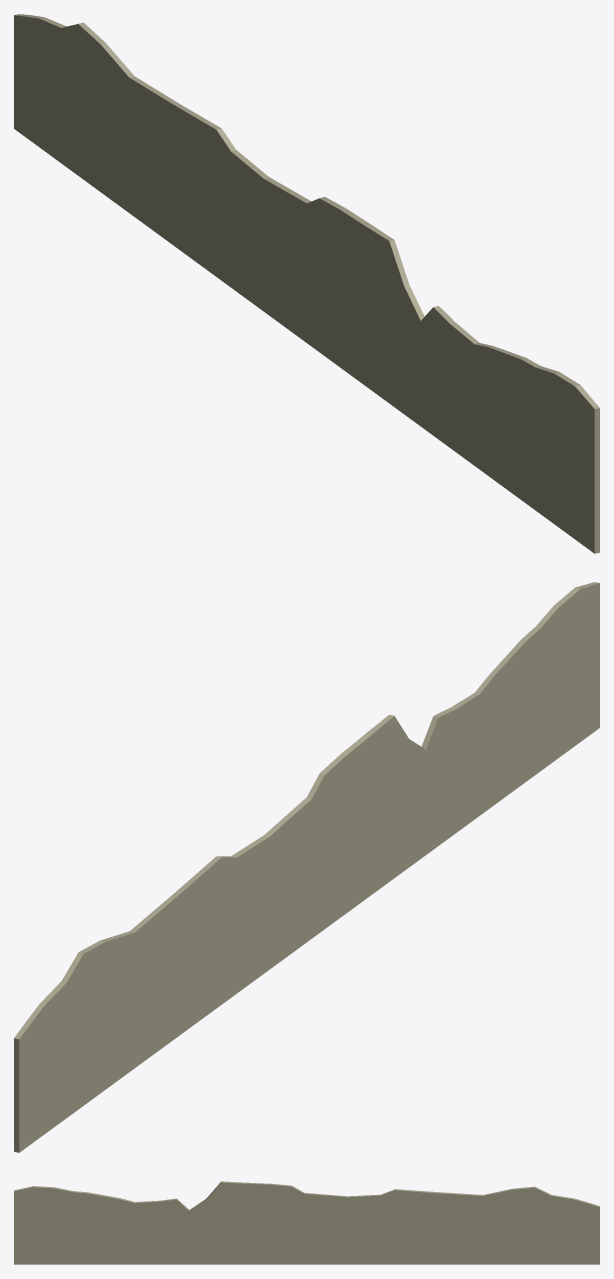
File: HugeWallBroken.fbx
3 views of the same model, one above another, from view 1: azimuth 30°, elevation 25°; view 2: azimuth 150°, elevation 25°; view 3: azimuth 270°, elevation 25° (orthographic). The views are drawn at different scales.
Parts seen in each view (by area): view 1: HugeWallBroken; view 2: HugeWallBroken; view 3: HugeWallBroken.
Boxes of the visible parts, x1=… form: HugeWallBroken: x1=14, y1=14, x2=599, y2=553; HugeWallBroken: x1=14, y1=582, x2=599, y2=1152; HugeWallBroken: x1=14, y1=1181, x2=599, y2=1264.
Bounding box in the file's own units: 0.25 × 7.41 × 48.
